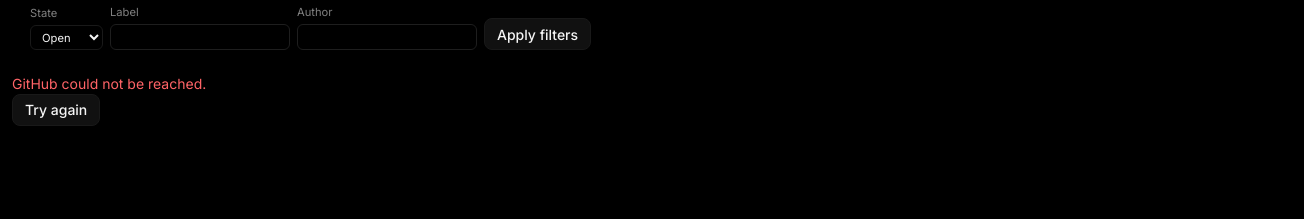
Test: IssueList › shows an error with retry when the list cannot load
expect the text "GitHub could not be reached." is shown: met, box 12,75 -> 206,92
What coordinates should you click on to do the following:
click the button "Try again"
I would click on:
 (56, 110)
Its box is 12,94 -> 100,126.
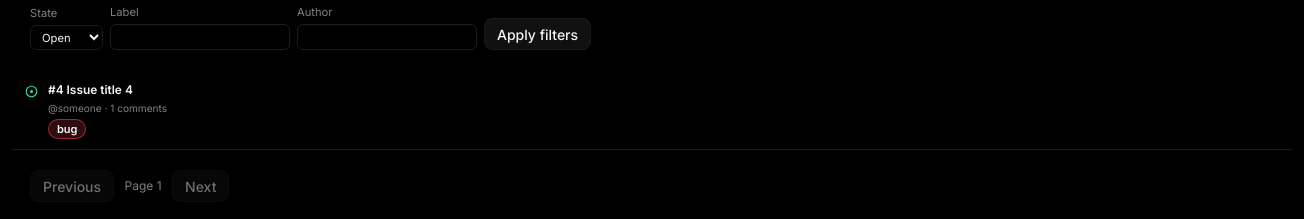
expect the text "#4 Issue title 4" is shown: met, box 48,82 -> 133,97
